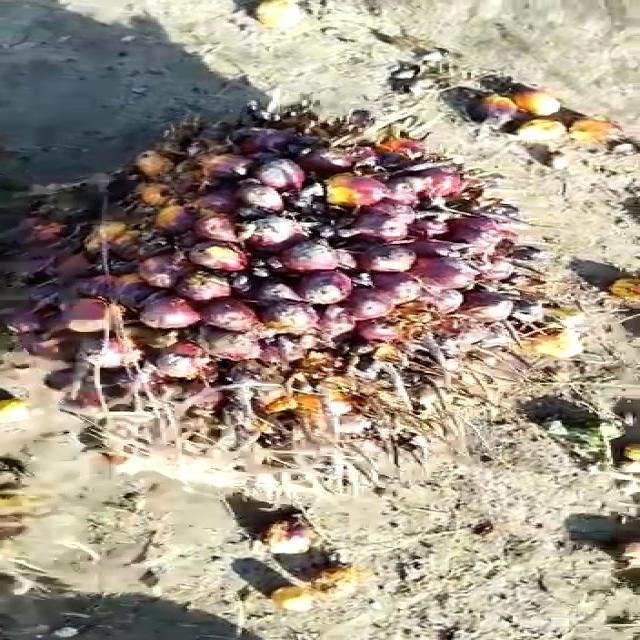palm oil: (0, 96, 553, 459)
